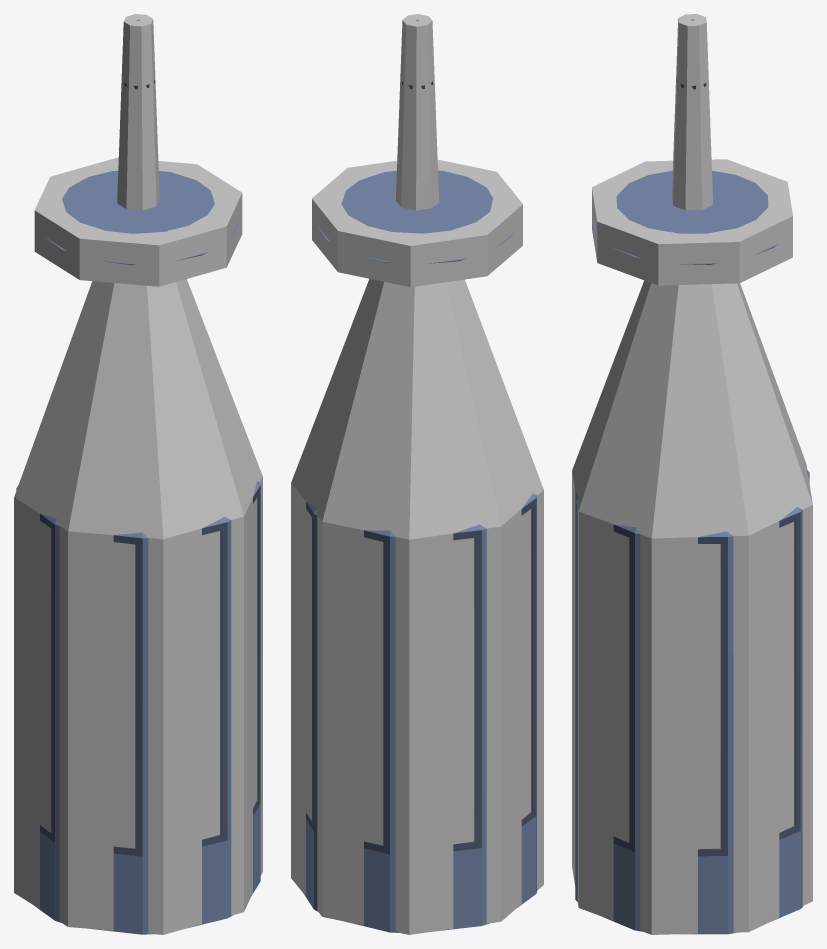
File: SM_Building_17_Top.fbx
The picture shows the model from 3 angles, left to right: view 1: azimuth 30°, elevation 25°; view 2: azimuth 150°, elevation 25°; view 3: azimuth 270°, elevation 25°; orthographic projection.
Visible parts, largest first — view 1: SM_Building_17_Top_ConvexHulls, SM_Building_17_Top; view 2: SM_Building_17_Top_ConvexHulls, SM_Building_17_Top; view 3: SM_Building_17_Top_ConvexHulls, SM_Building_17_Top.
Part boxes in pixels (x1,y1,x2,y2): SM_Building_17_Top_ConvexHulls: (14,14,262,934); SM_Building_17_Top: (16,19,260,934); SM_Building_17_Top_ConvexHulls: (291,14,543,934); SM_Building_17_Top: (305,19,536,932); SM_Building_17_Top_ConvexHulls: (572,14,812,934); SM_Building_17_Top: (575,19,809,934).
Bounding box in the file's own units: 698 × 698 × 2765.
2 materials, 1 textured.
